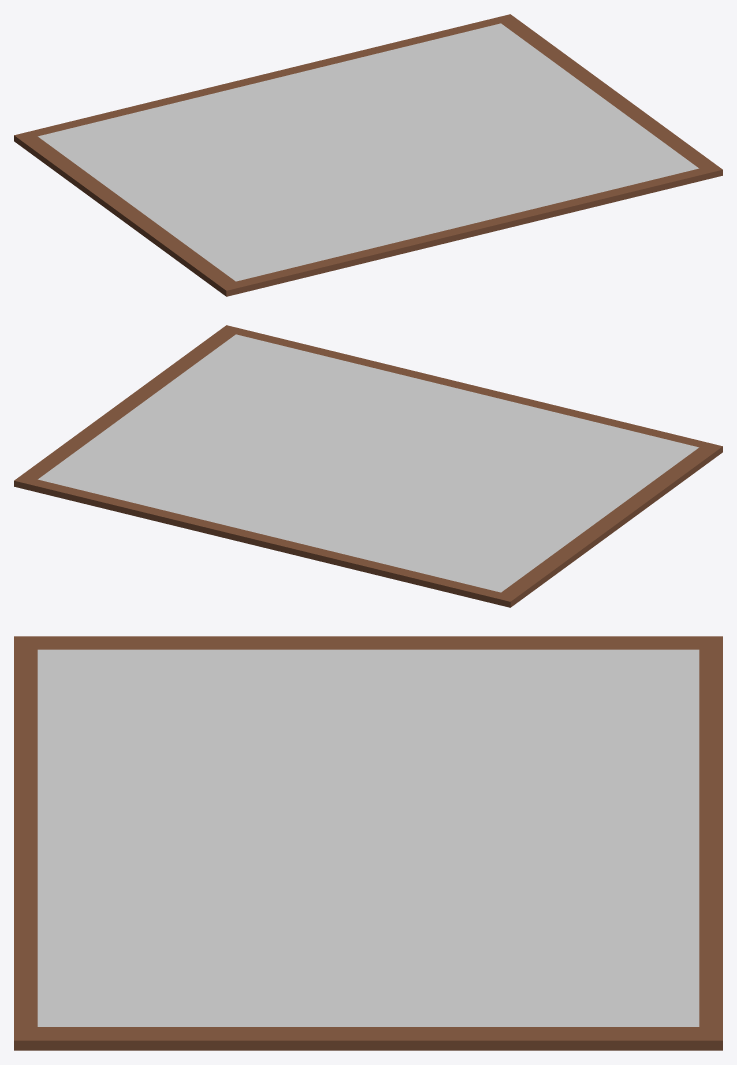
Rendered from inmaduroPaloteado.fbx.
The picture shows the model from 3 angles, top to bottom: view 1: azimuth 30°, elevation 25°; view 2: azimuth 150°, elevation 25°; view 3: azimuth 270°, elevation 25°; orthographic projection. The views are drawn at different scales.
Visible parts, largest first — view 1: Plane; view 2: Plane; view 3: Plane.
Boxes of the visible parts, x1,y1,x2,y2 form: Plane: (14,14,722,296); Plane: (14,325,722,607); Plane: (14,636,722,1050).
Size of the model in its own units: 1300 by 15.1 by 964.
